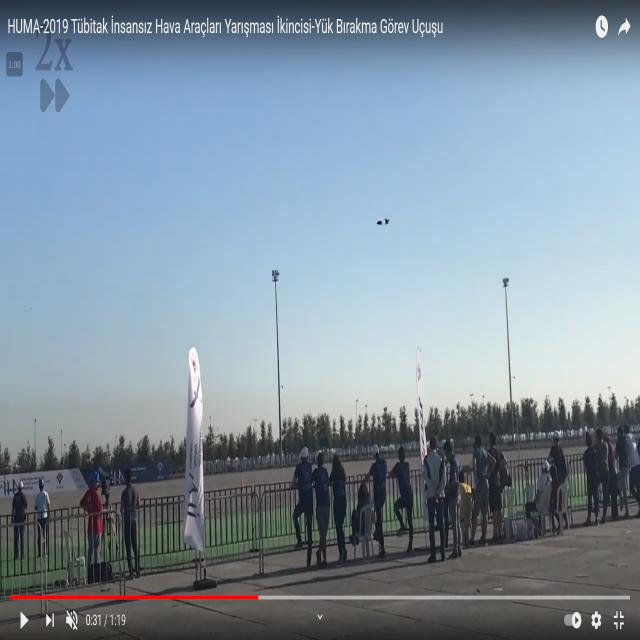iha: (377, 220, 389, 225)
